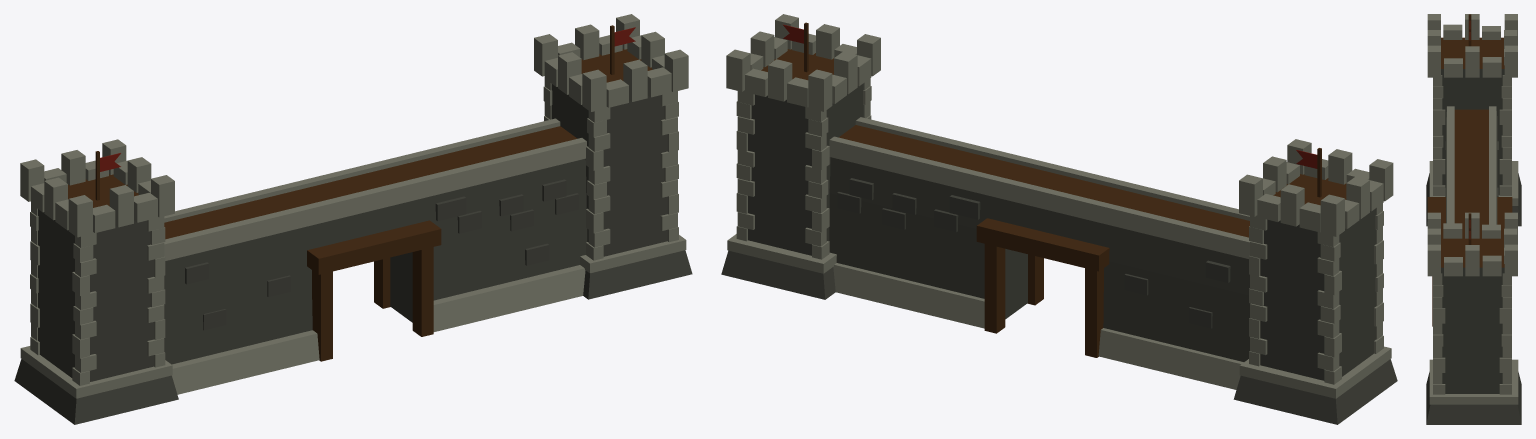
Rendered from GateFix.FBX.
The picture shows the model from 3 angles, left to right: view 1: azimuth 30°, elevation 25°; view 2: azimuth 150°, elevation 25°; view 3: azimuth 270°, elevation 25°; orthographic projection. The views are drawn at different scales.
Visible parts, largest first — view 1: WallTowers_DoorClosed_SecondAge; view 2: WallTowers_DoorClosed_SecondAge; view 3: WallTowers_DoorClosed_SecondAge.
Part boxes in pixels (bbox=[...]): WallTowers_DoorClosed_SecondAge: bbox=[14, 14, 692, 424]; WallTowers_DoorClosed_SecondAge: bbox=[721, 14, 1397, 424]; WallTowers_DoorClosed_SecondAge: bbox=[1426, 14, 1521, 424].
Size of the model in its own units: 77.78 by 29.02 by 13.13.
